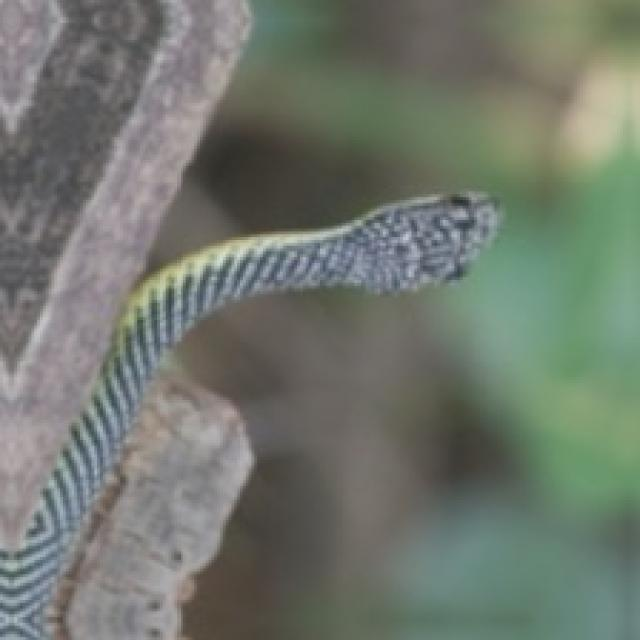paradise tree snake: (0, 191, 497, 637)
